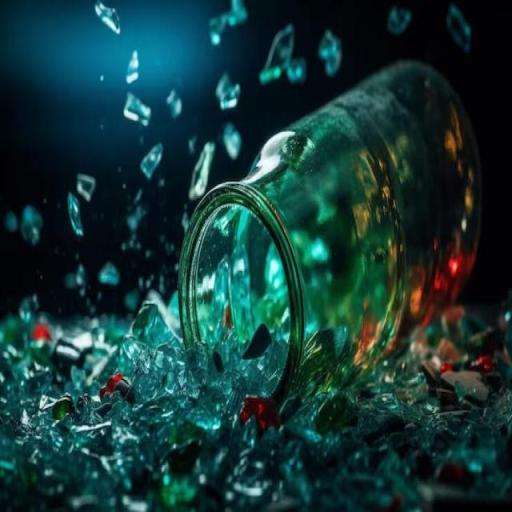glass: (172, 47, 488, 417), (258, 24, 301, 86), (228, 245, 254, 339), (52, 328, 96, 370), (316, 390, 354, 437), (135, 131, 167, 185), (188, 140, 216, 200), (162, 436, 204, 476), (280, 460, 315, 504), (160, 471, 200, 506), (119, 335, 154, 373), (317, 28, 342, 78), (446, 3, 472, 51), (167, 420, 205, 452), (241, 323, 273, 360), (184, 403, 222, 434), (264, 242, 286, 294), (215, 71, 241, 112), (131, 300, 159, 338), (323, 324, 350, 362), (123, 91, 151, 127), (284, 422, 322, 448), (94, 1, 121, 35), (2, 411, 34, 439), (21, 204, 42, 246), (490, 387, 512, 427), (74, 393, 100, 426), (67, 191, 84, 238), (232, 476, 266, 499), (73, 419, 112, 439), (222, 122, 242, 160), (387, 5, 412, 35), (126, 200, 147, 234), (35, 472, 62, 498), (51, 394, 75, 422), (120, 491, 150, 512), (154, 342, 178, 368), (208, 13, 226, 47), (66, 492, 100, 510), (309, 236, 330, 265), (76, 173, 96, 202), (225, 0, 247, 26), (19, 294, 38, 324), (98, 261, 120, 286), (166, 89, 182, 120), (126, 50, 139, 84), (168, 289, 181, 323), (70, 364, 84, 390), (212, 348, 225, 374), (124, 289, 140, 310), (4, 210, 18, 233), (453, 378, 466, 402), (232, 256, 246, 278), (76, 264, 86, 288), (64, 272, 78, 289), (0, 458, 16, 472), (181, 210, 189, 233), (133, 188, 143, 206), (188, 136, 196, 154)
